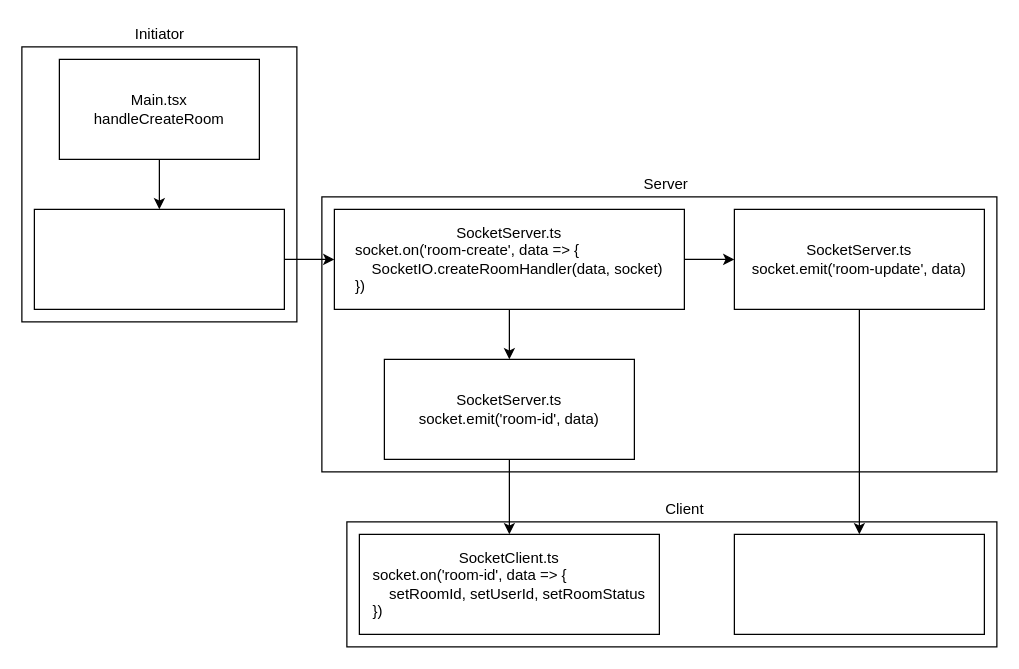
This 1019x669 diagram has some shape labels left out. Each missing label, with the box of its shape:
SocketClient.ts socket.emit('room-create', data): (33, 208, 284, 309)
SocketClient.ts socket.on('room-update', data => { setRoomParticipants }): (733, 533, 984, 634)
